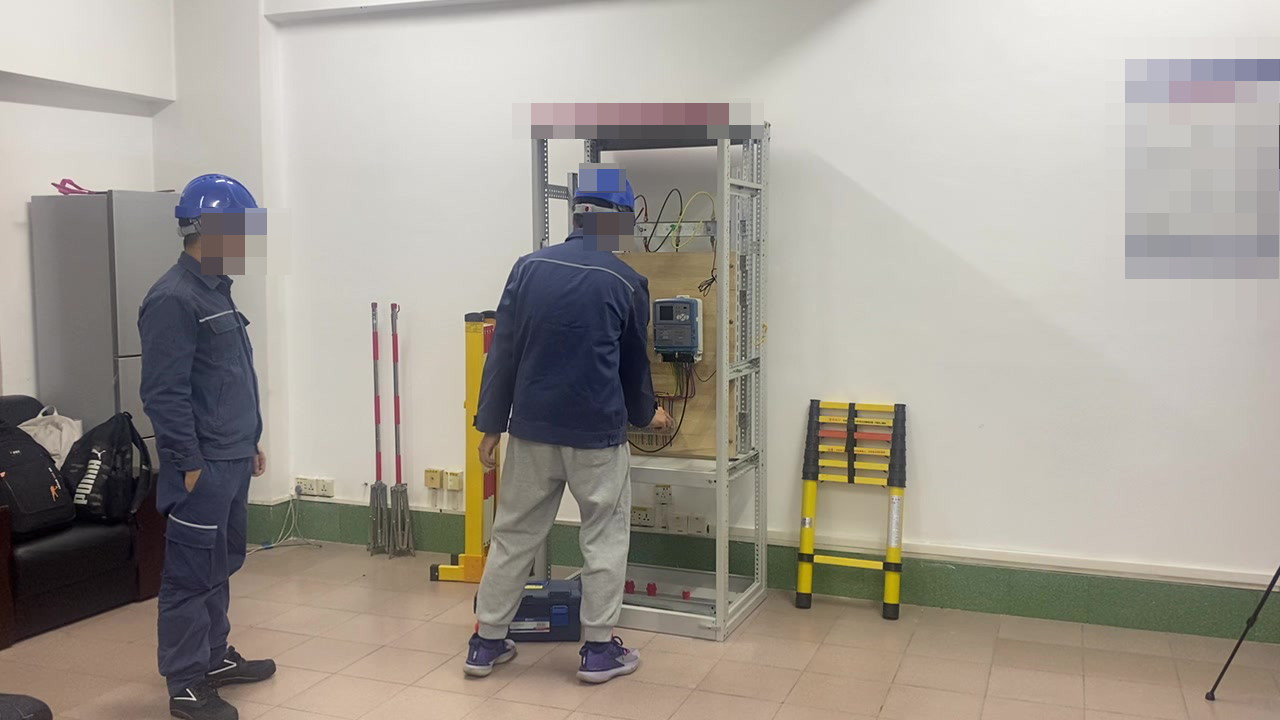downcloth: (480, 434, 637, 643)
downsuit: (153, 468, 260, 686)
halt: (172, 173, 268, 273), (570, 168, 640, 237)
hand: (476, 434, 503, 468), (651, 406, 678, 436), (250, 446, 267, 478)
inear: (185, 212, 239, 270)
noear: (606, 211, 634, 250)
person: (457, 166, 666, 675), (134, 172, 279, 715)
upsuit: (474, 231, 658, 447), (139, 259, 264, 457)
